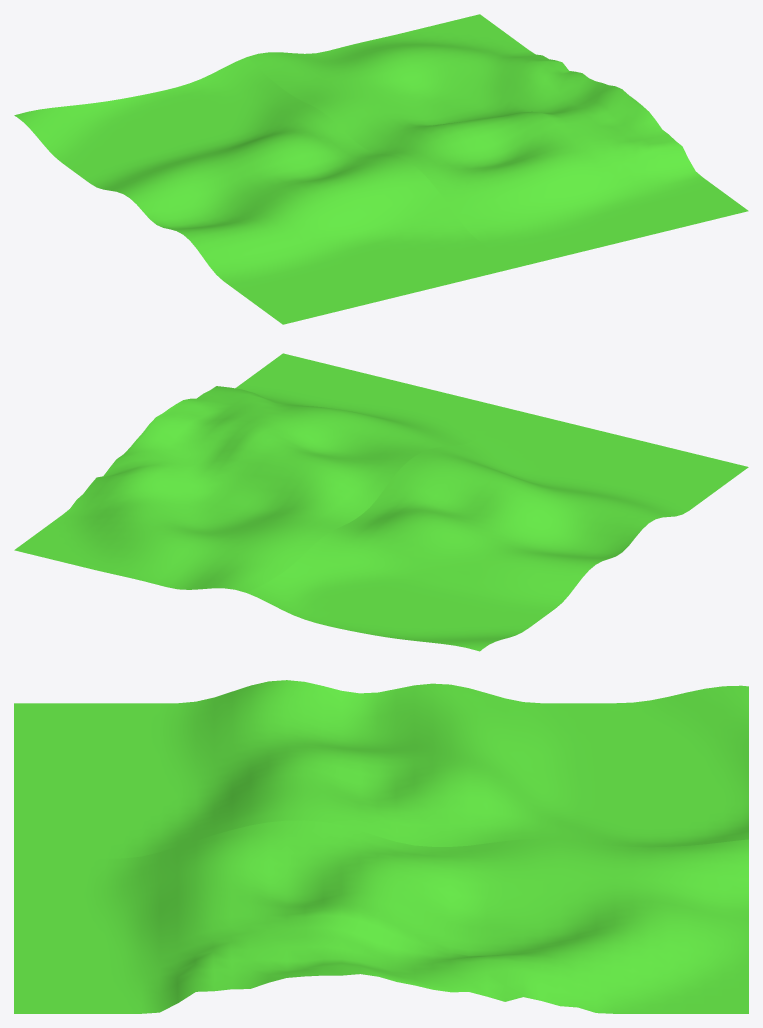
File: tile_200_0.glb
3 renders of one model, top to bottom at view 1: azimuth 30°, elevation 25°; view 2: azimuth 150°, elevation 25°; view 3: azimuth 270°, elevation 25°, orthographic. The views are drawn at different scales.
Parts seen in each view (by area): view 1: tile_200_0; view 2: tile_200_0; view 3: tile_200_0.
Part boxes in pixels (bbox=[...]): tile_200_0: bbox=[14, 14, 748, 324]; tile_200_0: bbox=[14, 353, 748, 651]; tile_200_0: bbox=[14, 680, 748, 1013].
Bounding box in the file's own units: 100 × 6.27 × 100.
